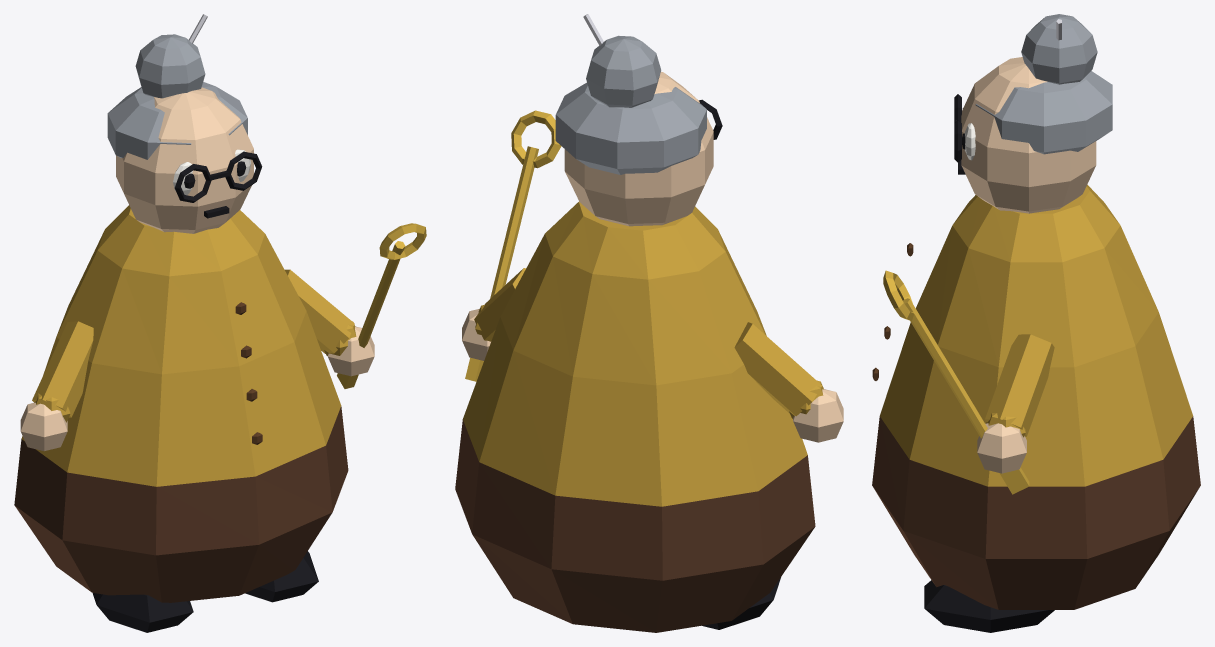
Rendered from npc_ganzua.glb.
The picture shows the model from 3 angles, left to right: view 1: azimuth 30°, elevation 25°; view 2: azimuth 150°, elevation 25°; view 3: azimuth 270°, elevation 25°; orthographic projection. The views are drawn at different scales.
Visible parts, largest first — view 1: body_cardigan_mustard, body_skirt_brown, head_skin_crema, head_hair_gray, arms_cardigan_mustard, legs_black, arms_skin_crema, props_key_brass, face_black; view 2: body_cardigan_mustard, body_skirt_brown, head_hair_gray, head_skin_crema, arms_cardigan_mustard, props_key_brass, arms_skin_crema, legs_black; view 3: body_cardigan_mustard, body_skirt_brown, head_hair_gray, head_skin_crema, arms_cardigan_mustard, legs_black, props_key_brass, arms_skin_crema, face_black.
Part boxes in pixels (box(x1,y1,x2,y2)): body_cardigan_mustard: box(21, 205, 341, 486); body_skirt_brown: box(14, 406, 348, 602); head_skin_crema: box(116, 87, 253, 233); head_hair_gray: box(107, 34, 247, 159); arms_cardigan_mustard: box(32, 269, 356, 422); legs_black: box(92, 551, 318, 632); arms_skin_crema: box(20, 326, 374, 451); props_key_brass: box(337, 223, 426, 388); face_black: box(174, 151, 262, 218); body_cardigan_mustard: box(463, 201, 807, 506); body_skirt_brown: box(455, 419, 815, 632); head_hair_gray: box(555, 35, 706, 174); head_skin_crema: box(564, 71, 713, 226); arms_cardigan_mustard: box(474, 268, 823, 418); props_key_brass: box(465, 110, 561, 381); arms_skin_crema: box(462, 309, 843, 442); legs_black: box(702, 577, 780, 629); body_cardigan_mustard: box(880, 185, 1192, 486); body_skirt_brown: box(872, 416, 1200, 609); head_hair_gray: box(975, 14, 1112, 154); head_skin_crema: box(961, 57, 1096, 213); arms_cardigan_mustard: box(985, 334, 1054, 437); legs_black: box(924, 580, 1054, 632); props_key_brass: box(883, 270, 1029, 494); arms_skin_crema: box(977, 423, 1026, 473); face_black: box(954, 94, 965, 174).
Size of the model in its own units: 1.14 by 1.71 by 0.86.
